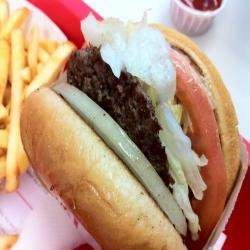burger: (22, 21, 244, 250)
fries: (1, 5, 73, 117)
ketchup: (167, 1, 225, 39)
